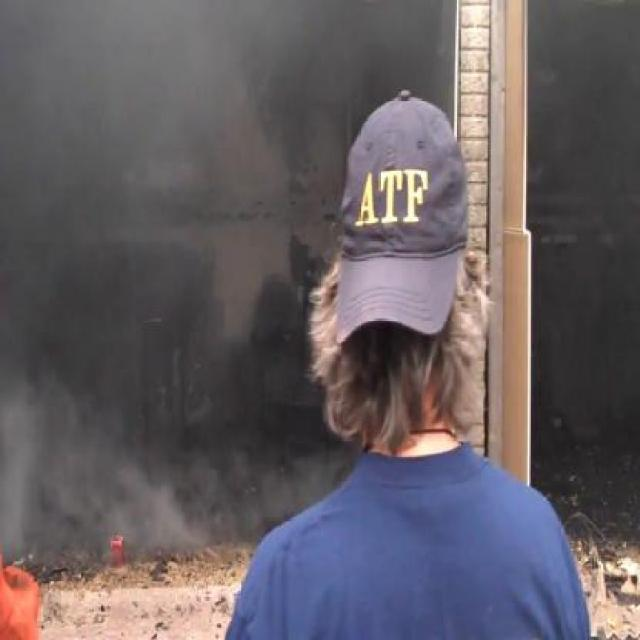smoke: (8, 14, 534, 602)
